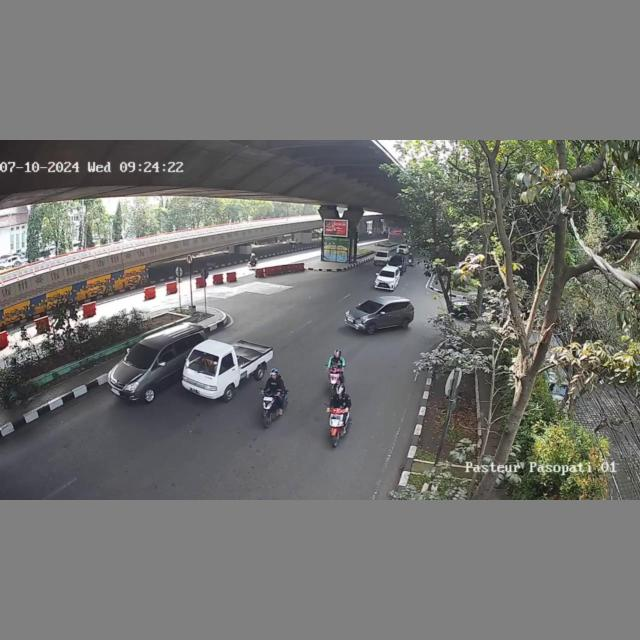windshield: (121, 344, 159, 367), (187, 348, 222, 372), (357, 299, 383, 314), (379, 270, 395, 277)
